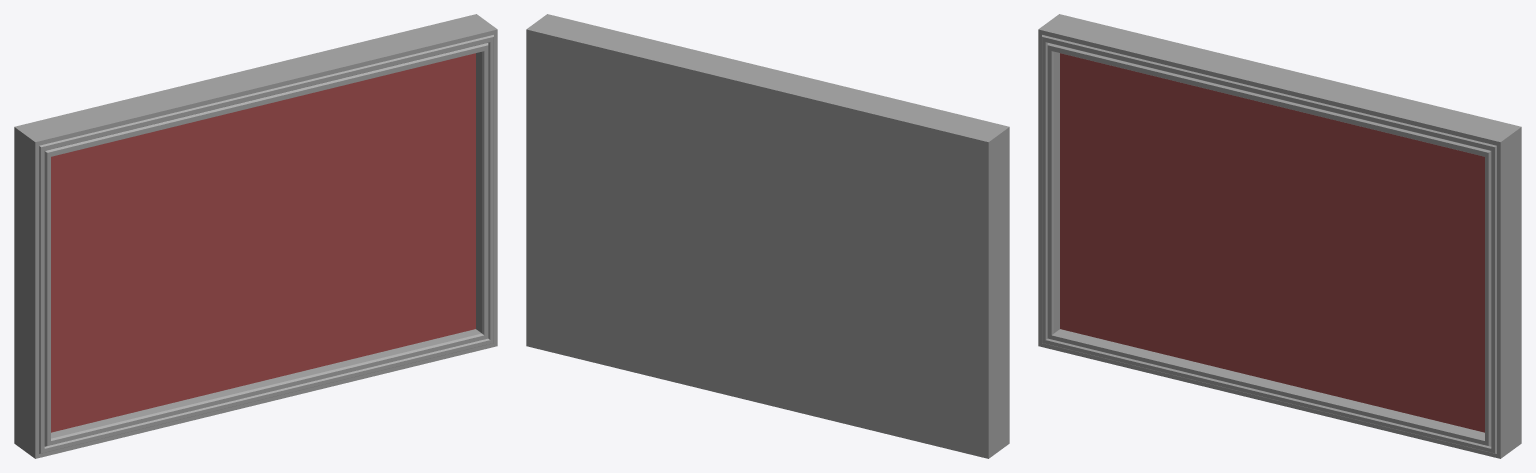
File: frame3_5-2-20.fbx
3 views of the same model, side by side, from view 1: azimuth 30°, elevation 25°; view 2: azimuth 150°, elevation 25°; view 3: azimuth 330°, elevation 25° (orthographic).
Visible parts, largest first — view 1: pCube3; view 2: pCube3; view 3: pCube3.
Boxes of the visible parts, box(x1,y1,x2,y2) form: pCube3: box(14, 14, 497, 458); pCube3: box(526, 14, 1009, 458); pCube3: box(1038, 14, 1521, 458).
Bounding box in the file's own units: 129 × 84.29 × 10.77.
